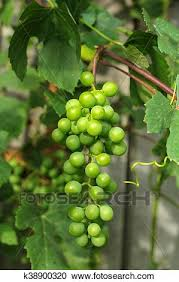grapes: (53, 70, 133, 252)
